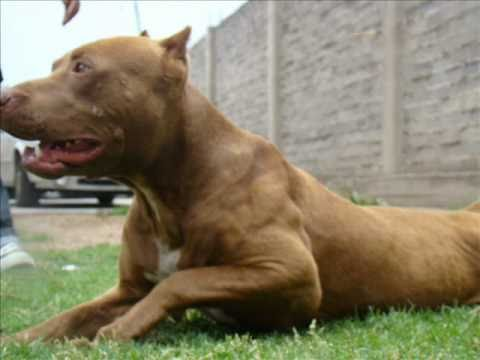am_pit_bull_terrier: (0, 27, 480, 350)
